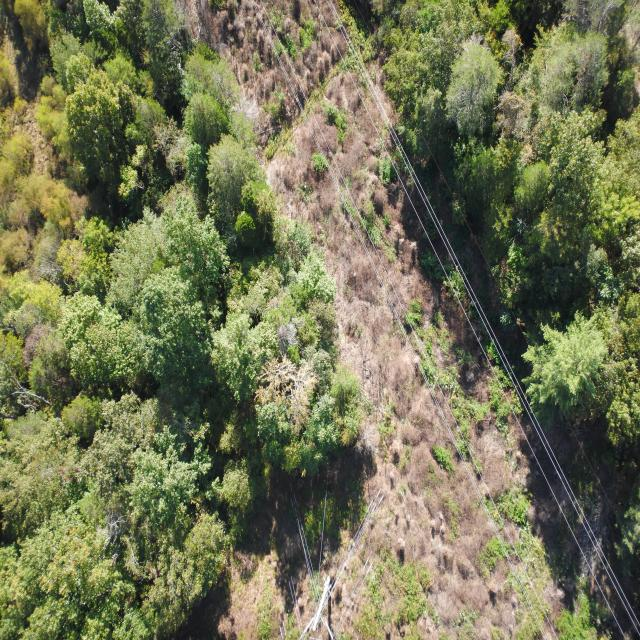Area of Interest: (3, 9, 363, 634), (394, 4, 635, 540)
